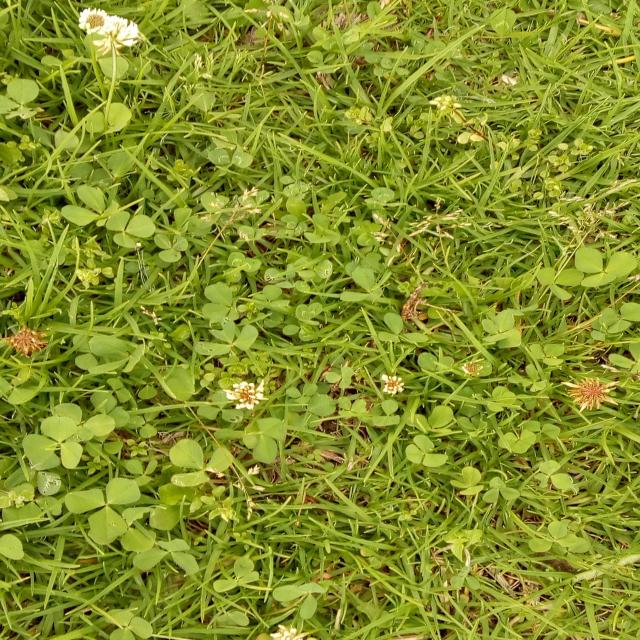Four Leaf Clover: (480, 309, 522, 350)
